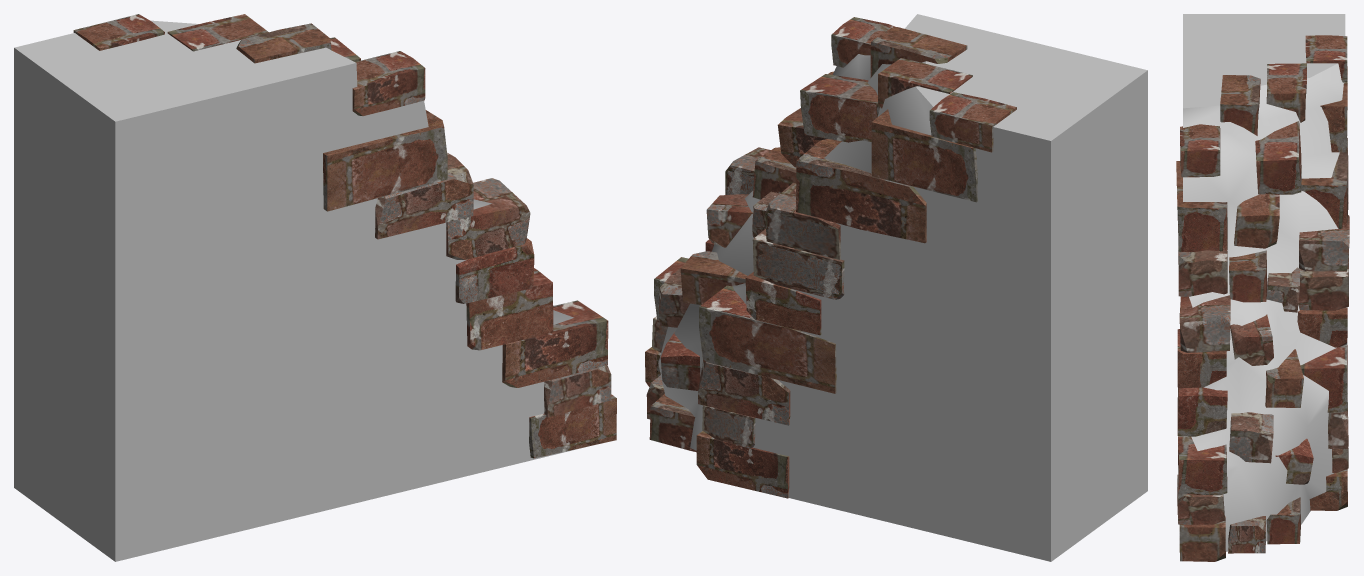
File: SM_Wall_Thick_Ruined_017.fbx
3 renders of one model, left to right at view 1: azimuth 30°, elevation 25°; view 2: azimuth 150°, elevation 25°; view 3: azimuth 270°, elevation 25°, orthographic. The views are drawn at different scales.
Parts seen in each view (by area): view 1: SM_Wall_Thick_Ruined_017_LOD0; view 2: SM_Wall_Thick_Ruined_017_LOD0; view 3: SM_Wall_Thick_Ruined_017_LOD0.
Boxes of the visible parts, left/top/right/bottom form: SM_Wall_Thick_Ruined_017_LOD0: left=14, top=14, right=616, bottom=561; SM_Wall_Thick_Ruined_017_LOD0: left=645, top=14, right=1147, bottom=561; SM_Wall_Thick_Ruined_017_LOD0: left=1176, top=14, right=1349, bottom=561.
Size of what is drawn, in the model's own units: 356 by 306 by 134.
